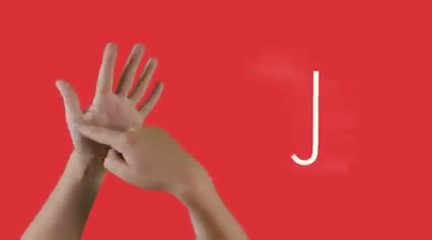J: (47, 37, 210, 200)
